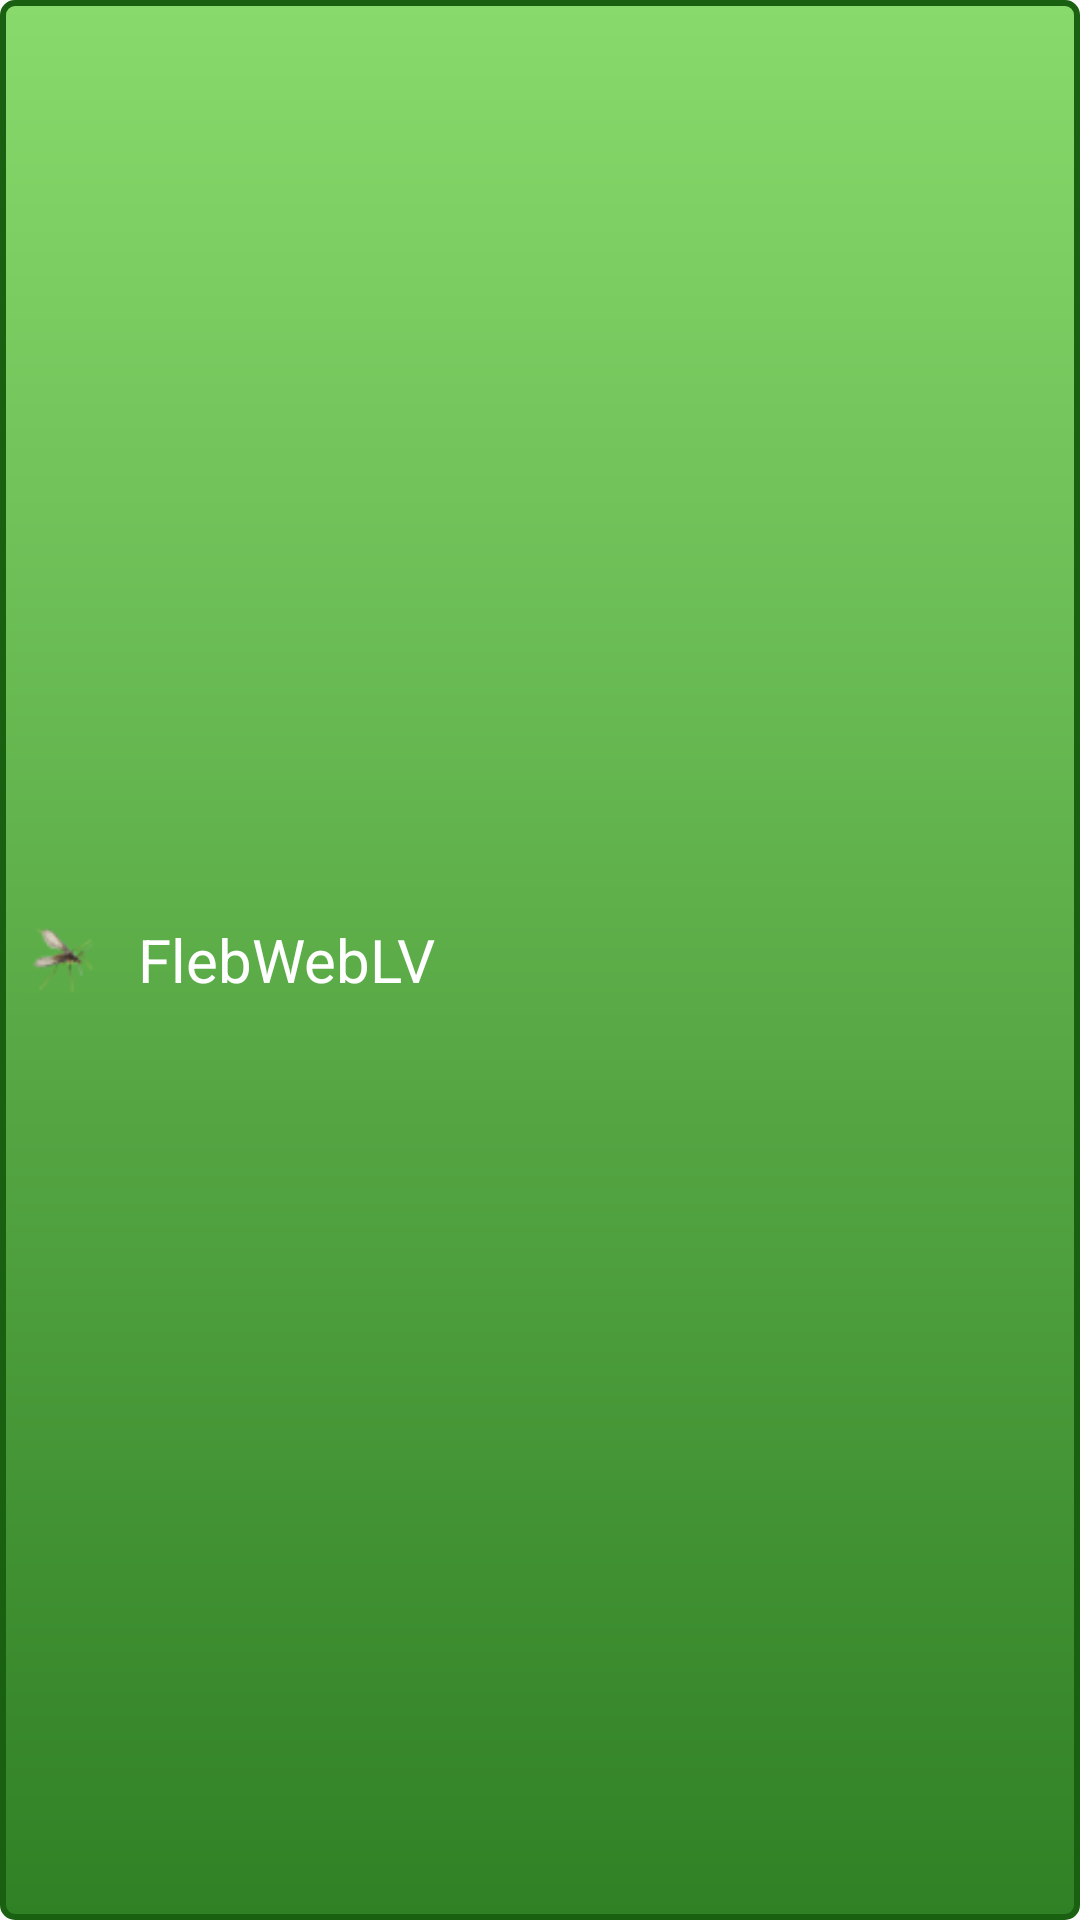

Locate icon controls on the screen. Image size 1080*1920, boxes as (x1, y1, x2, y2).
fleb tiny: (34, 929, 87, 975)
